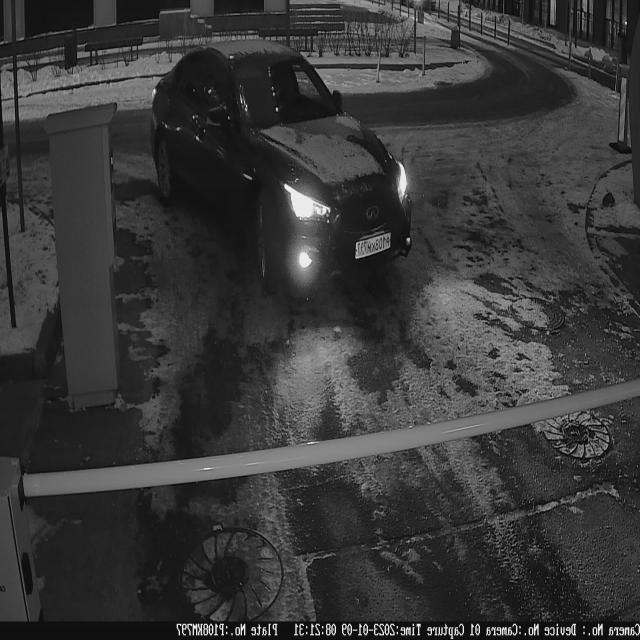car-plate-numbers: (353, 230, 397, 263)
